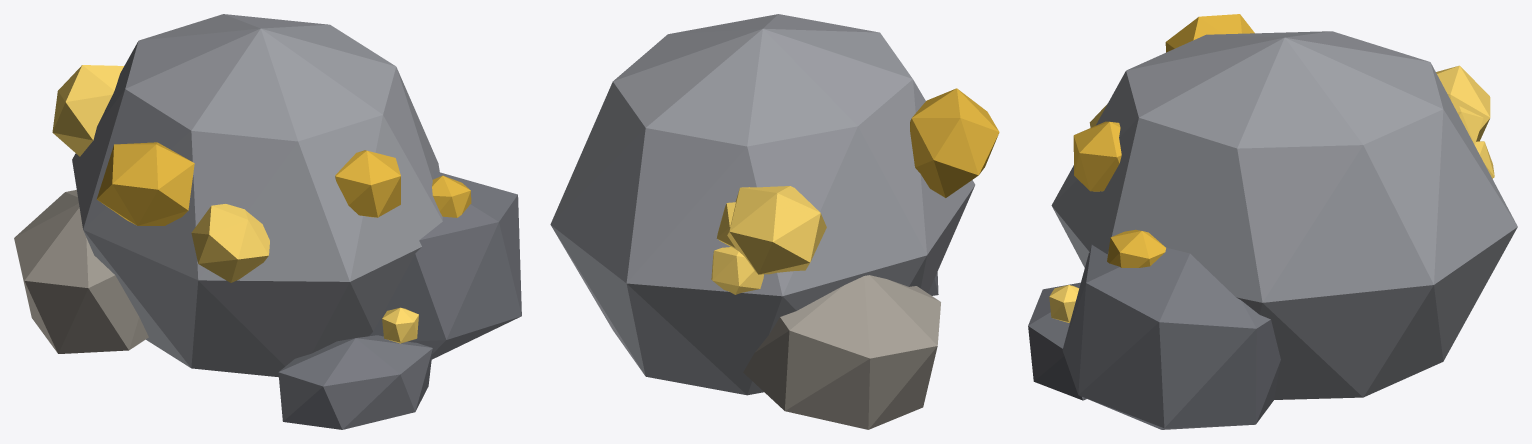
The model's file is rock_gold.glb.
3 views of the same model, side by side, from view 1: azimuth 30°, elevation 25°; view 2: azimuth 150°, elevation 25°; view 3: azimuth 270°, elevation 25° (orthographic). The views are drawn at different scales.
Visible parts, largest first — view 1: rock_gold; view 2: rock_gold; view 3: rock_gold.
Part boxes in pixels (left/top/right/bottom): rock_gold: left=14, top=14, right=521, bottom=429; rock_gold: left=550, top=14, right=999, bottom=429; rock_gold: left=1028, top=14, right=1517, bottom=429.
Size of the model in its own units: 1.05 by 0.84 by 1.04.
